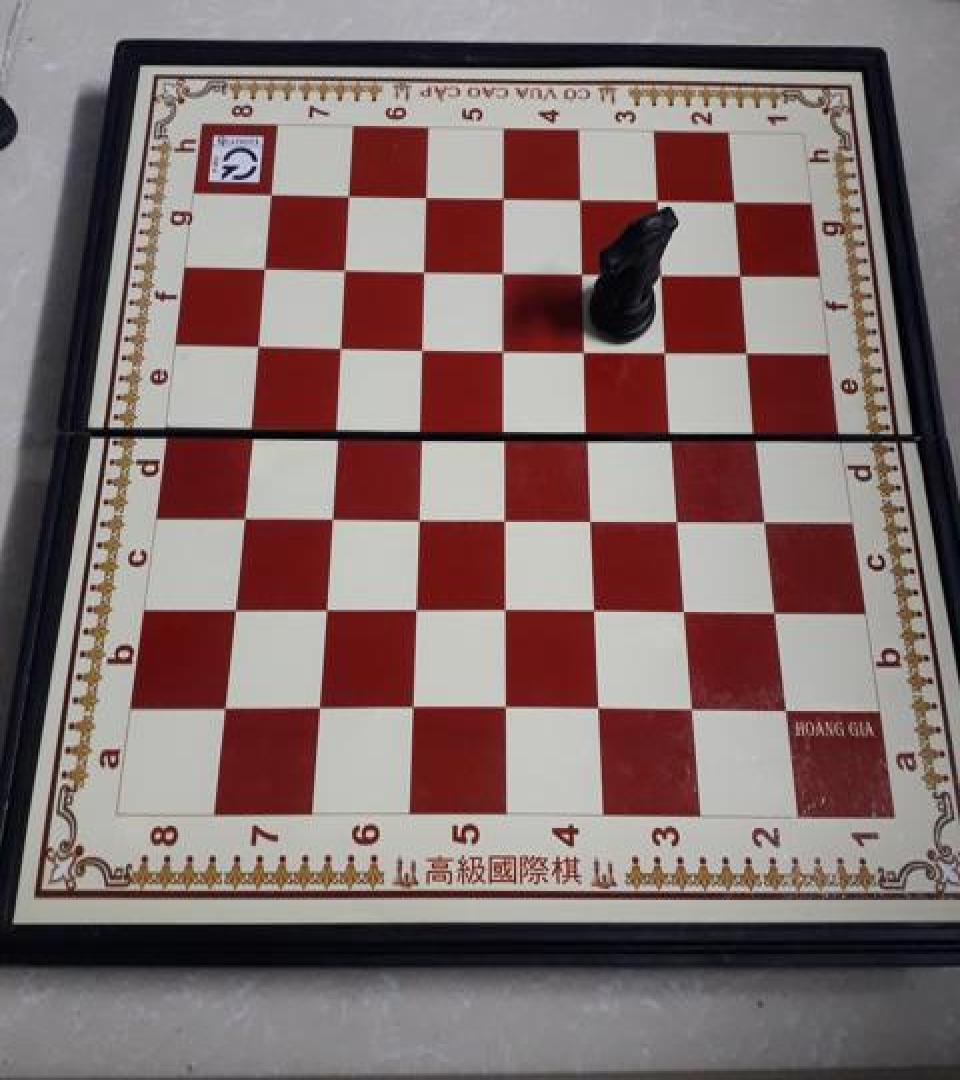xcorner: (398, 688, 430, 725), (492, 689, 524, 726), (585, 689, 617, 726), (310, 588, 342, 625), (401, 588, 433, 625), (209, 688, 241, 724), (304, 688, 336, 724), (678, 691, 710, 727), (771, 692, 803, 728), (219, 587, 251, 623), (492, 590, 524, 626), (582, 590, 614, 626), (672, 592, 704, 628), (761, 593, 793, 629), (228, 494, 260, 530), (316, 495, 348, 531), (404, 496, 436, 532), (491, 497, 523, 533), (578, 498, 610, 534), (665, 500, 697, 536), (752, 500, 784, 536), (236, 406, 268, 442), (321, 407, 353, 443), (406, 408, 438, 444), (491, 410, 523, 446), (575, 412, 607, 448), (659, 413, 691, 449), (743, 414, 775, 450), (244, 325, 276, 361), (326, 326, 358, 362), (409, 328, 441, 364), (572, 330, 604, 366), (654, 332, 686, 368), (735, 333, 767, 369), (251, 248, 283, 284), (331, 250, 363, 286), (411, 251, 443, 287), (491, 252, 523, 288), (570, 254, 602, 290), (649, 256, 681, 292), (727, 256, 759, 292), (258, 176, 290, 212), (336, 178, 368, 214), (413, 179, 445, 215), (490, 181, 522, 217), (567, 182, 599, 218), (644, 184, 676, 220), (720, 184, 752, 220), (491, 329, 523, 364)
